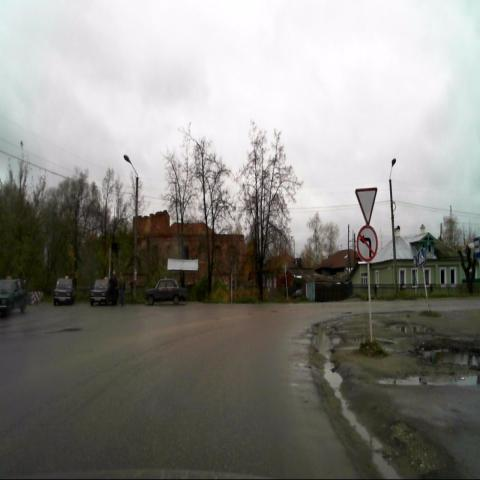2_4: (355, 187, 377, 228)
3_18_2: (356, 225, 378, 262)
